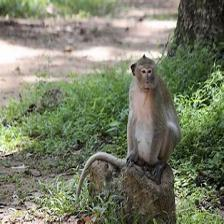monkey: (122, 57, 183, 185)
